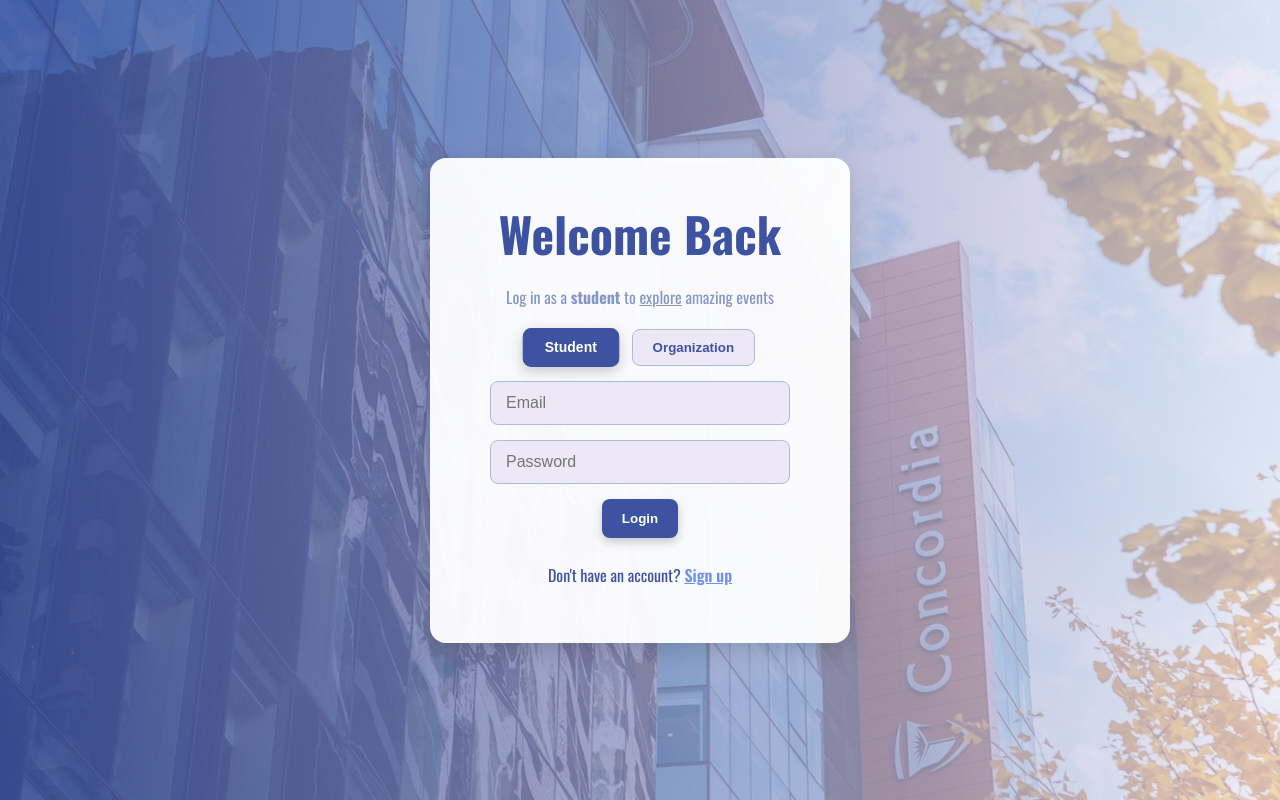
Test: Login Component › shows error for password missing lowercase
Type "test@example.com" into the field with placeholder "Email" at [640, 402], box [490, 380, 790, 424]
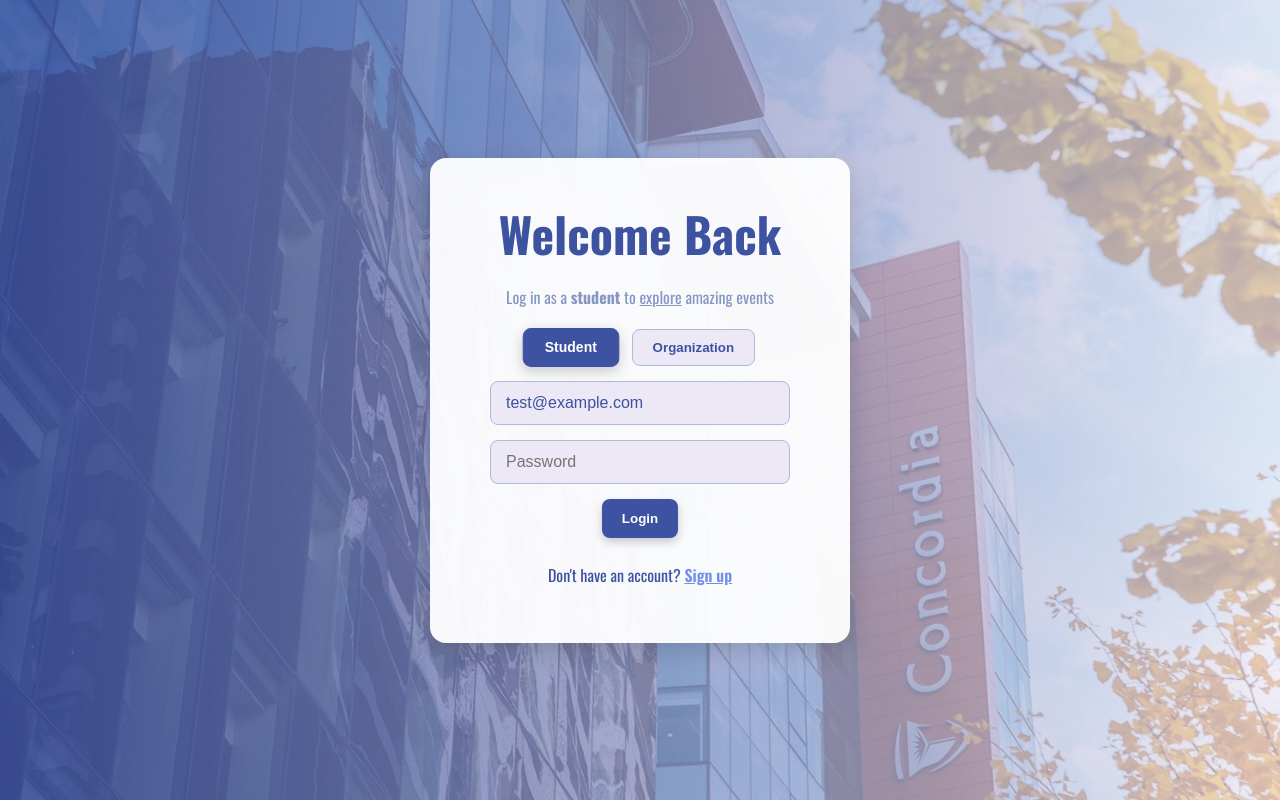
Type "UPPERCASE1" into the password field with placeholder "Password" at [640, 462], box [490, 440, 790, 484]
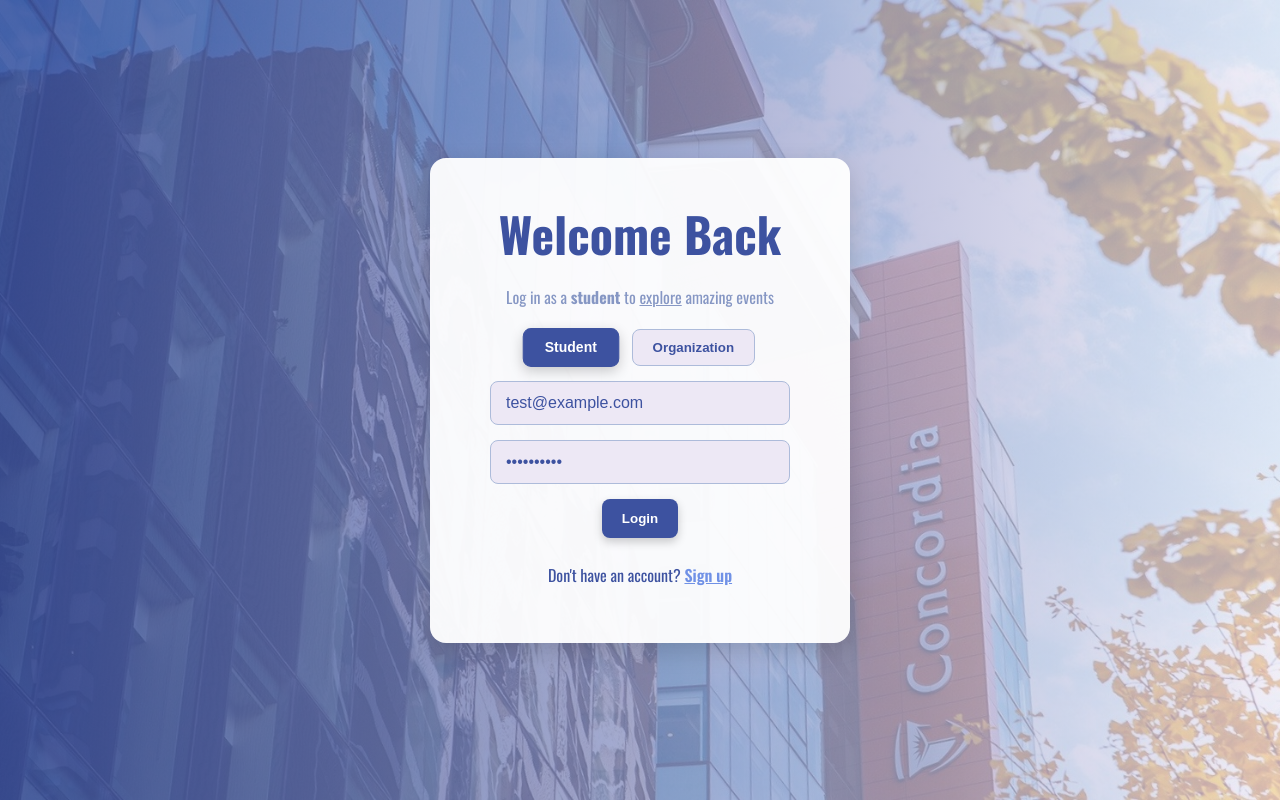
Click the button "Login" at [640, 518], box [602, 498, 678, 538]
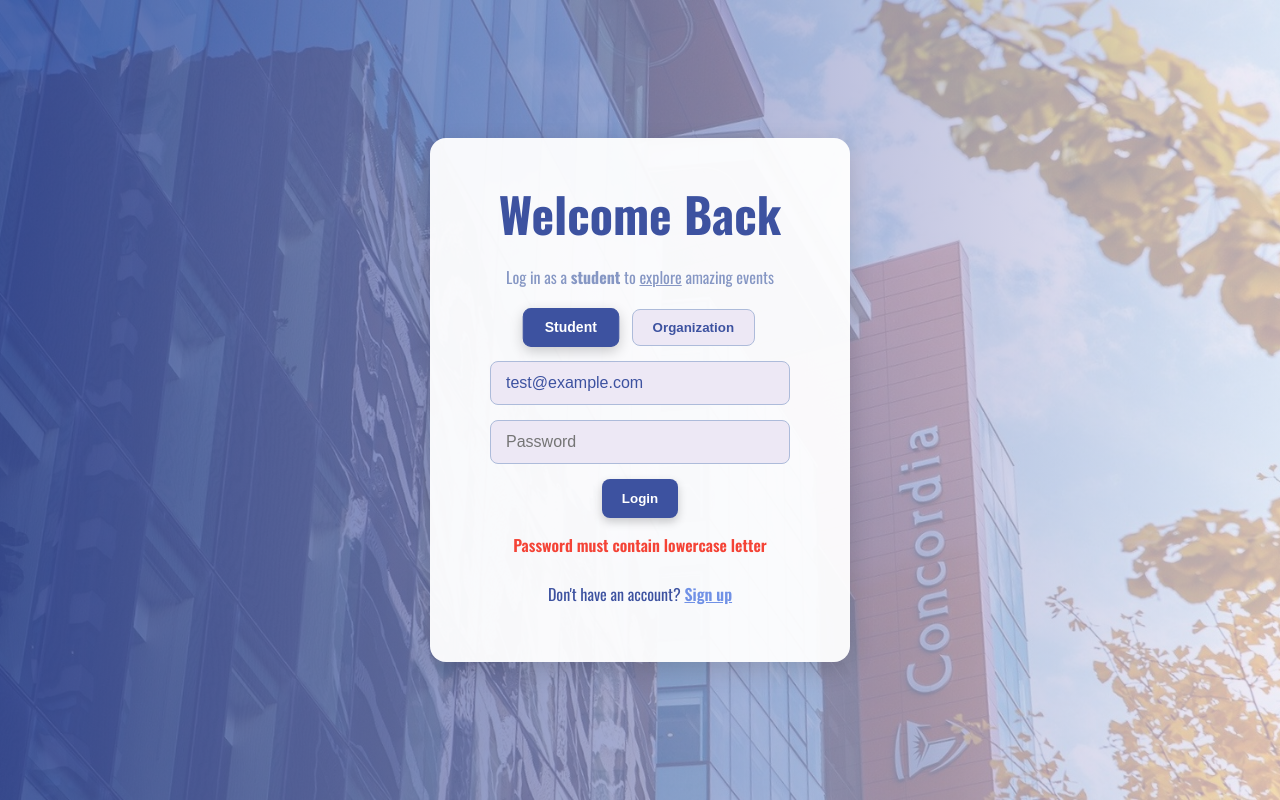
expect the text "Password must contain lowercase letter" is shown: met, box [513, 533, 767, 557]
